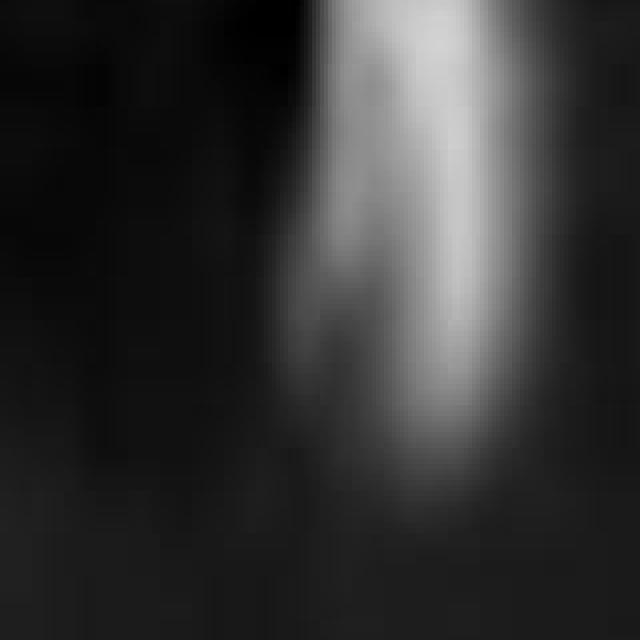person: (265, 1, 541, 518)
